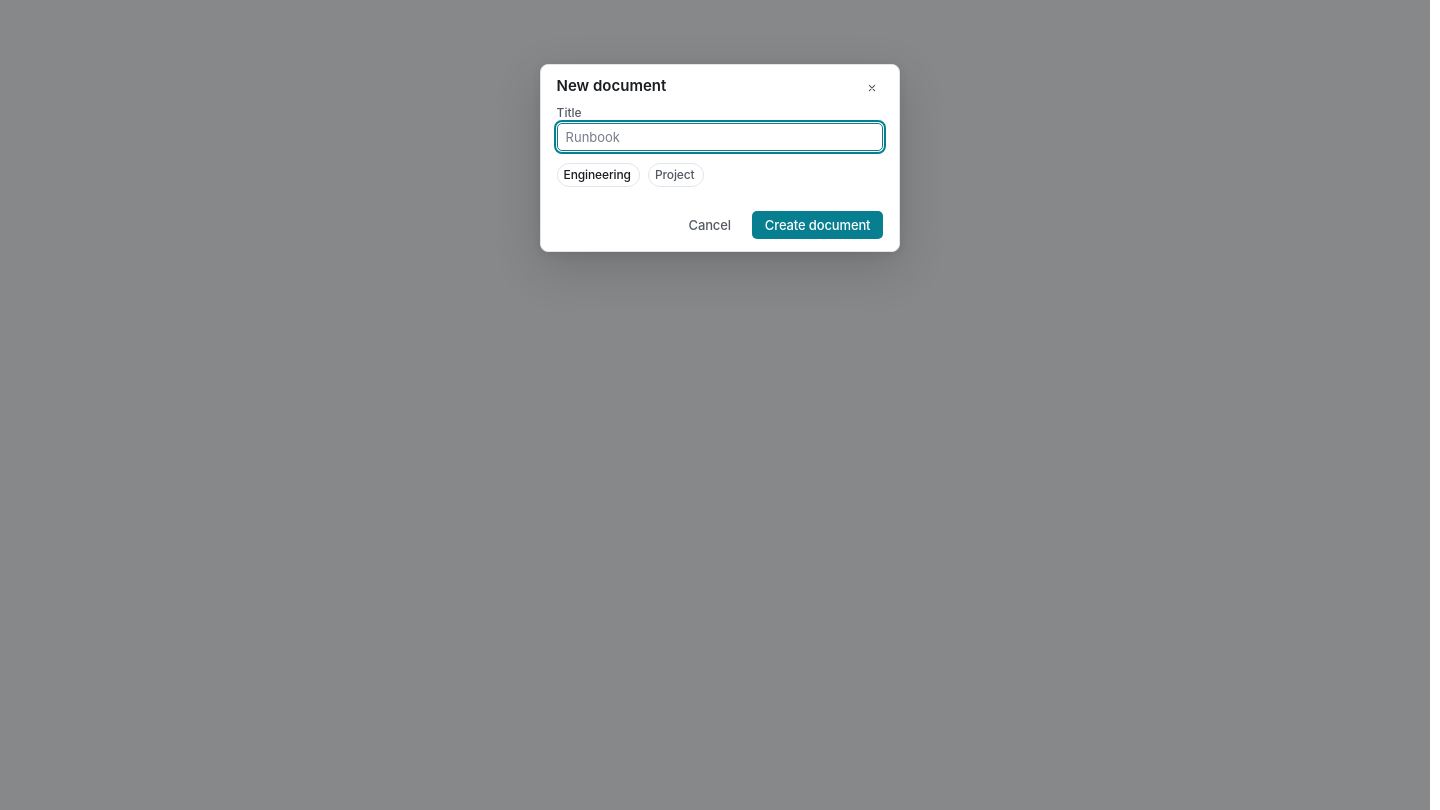
Test case: CreateDocumentModal discard guard › asks when the team was moved off the one the route seeded
Click the button "Engineering" at (598, 175), box [557, 163, 640, 187]
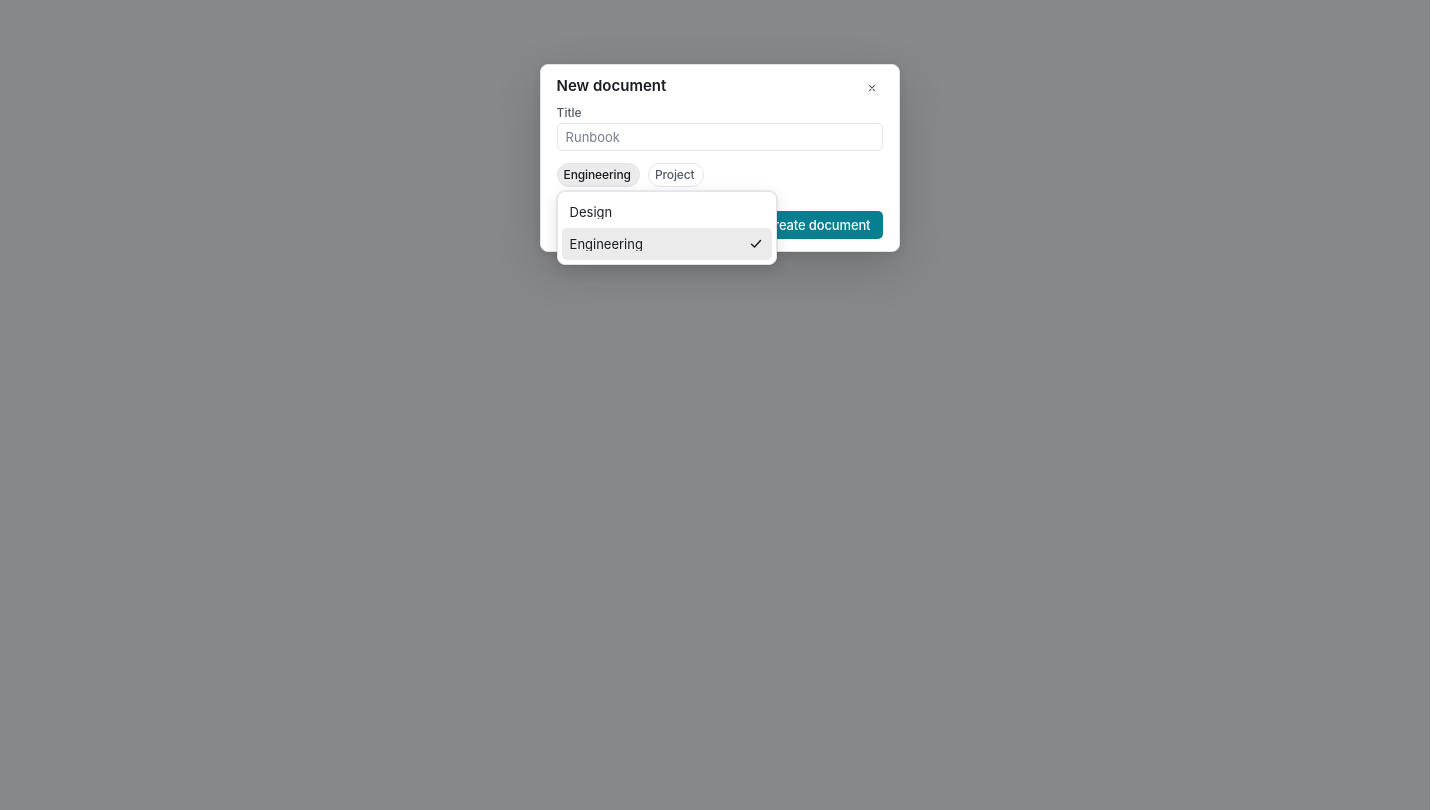
Click the menu item "Design" at (591, 212), box [570, 204, 612, 220]
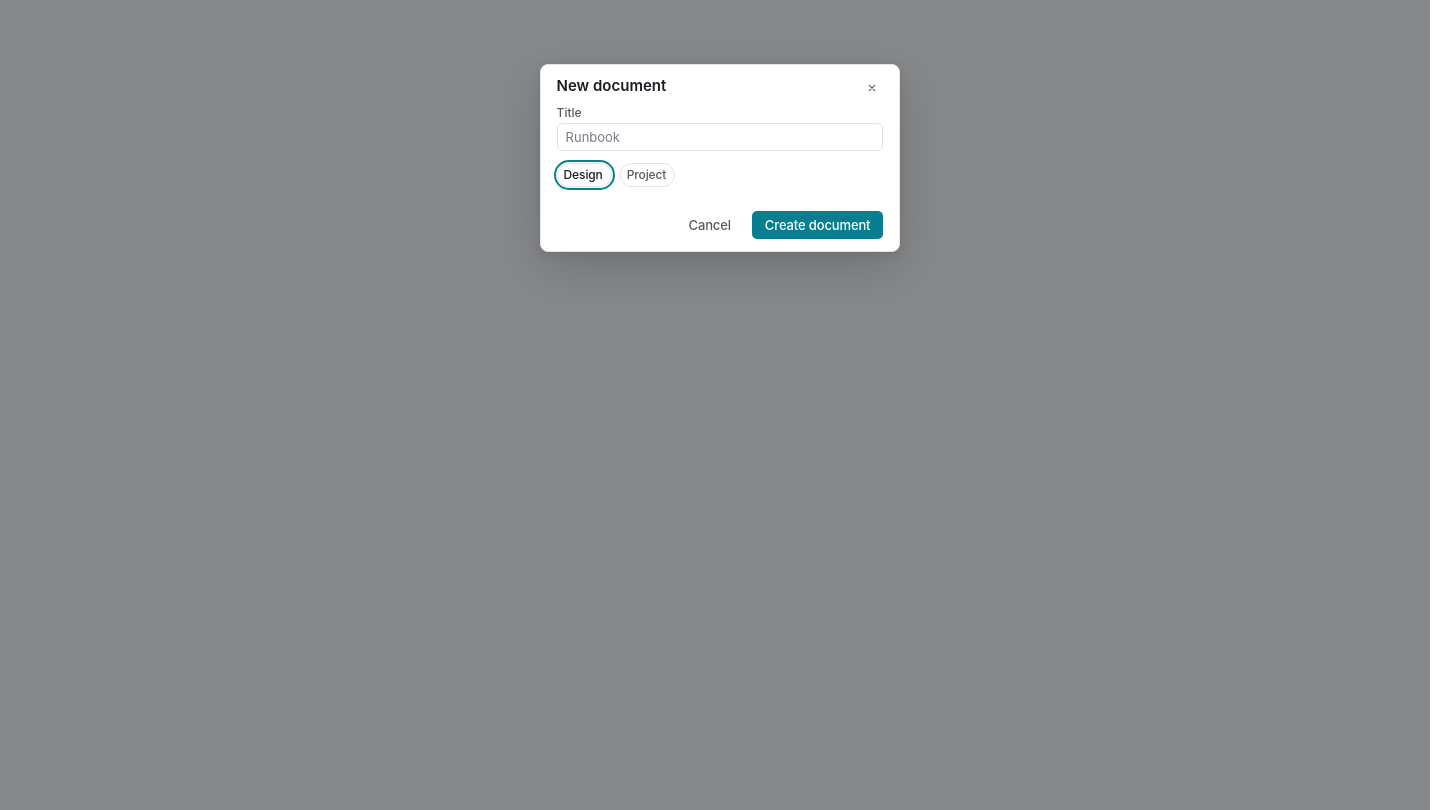
Press Escape
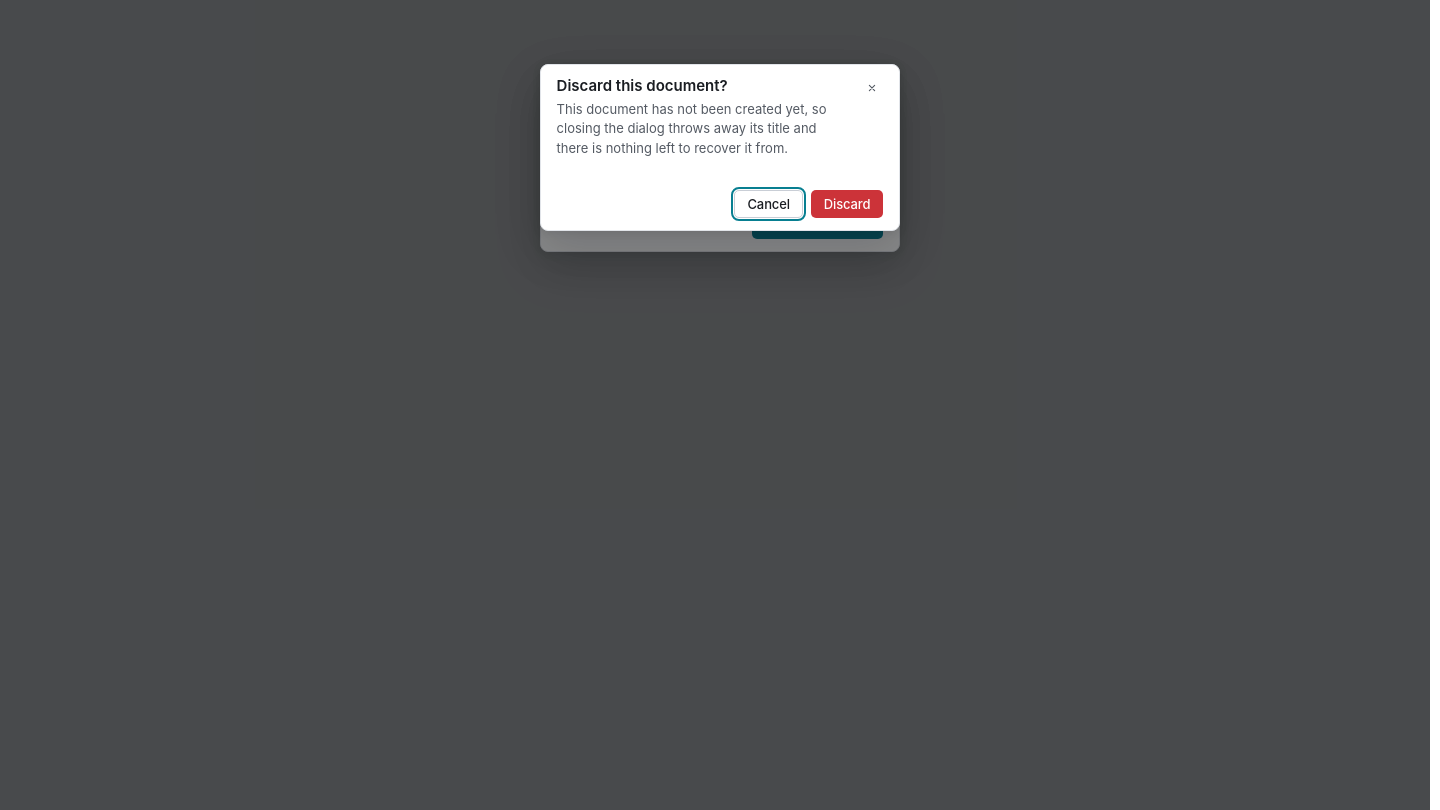
Expected: the dialog "Discard this document?" is shown, [540, 64, 900, 231]
